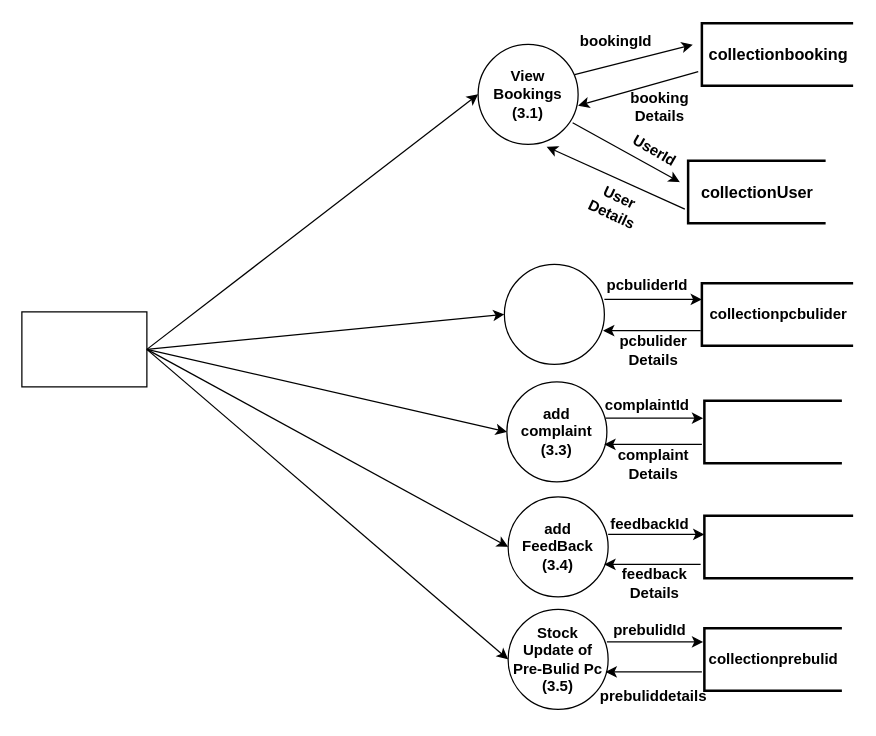
This 876x736 diagram has some shape labels left out. Here are the shapes that lost their labels. From the top down, the centre of each, then its label:
At (553,313): "Manage profile (3.2)".
At (84,349): "Pc Builder 3".
At (772,431): "collectioncomplaint".
At (778,546): "collectionfeedback".
